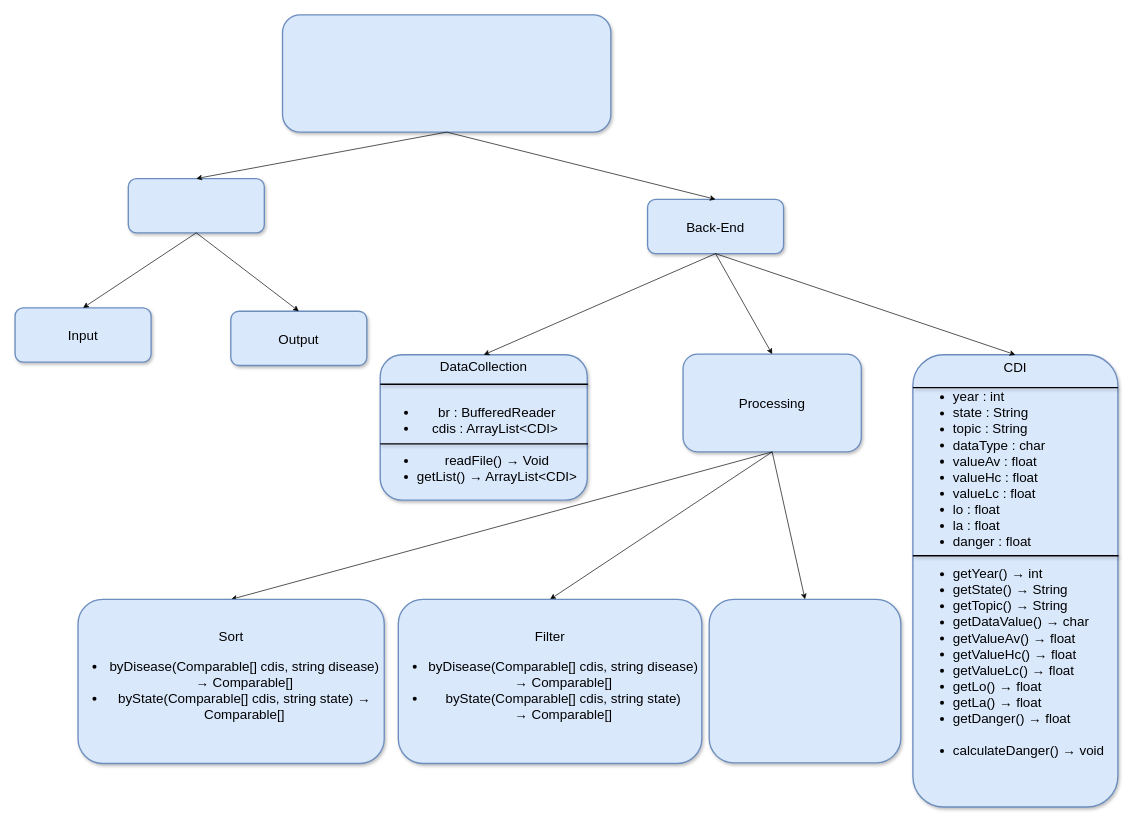
This 1134x824 diagram has some shape labels left out. The centre of each missing label's shape, as x and y in pixels:
Front-End: (197,206)
Graph: (805,682)
Nosophobic: (447,74)
